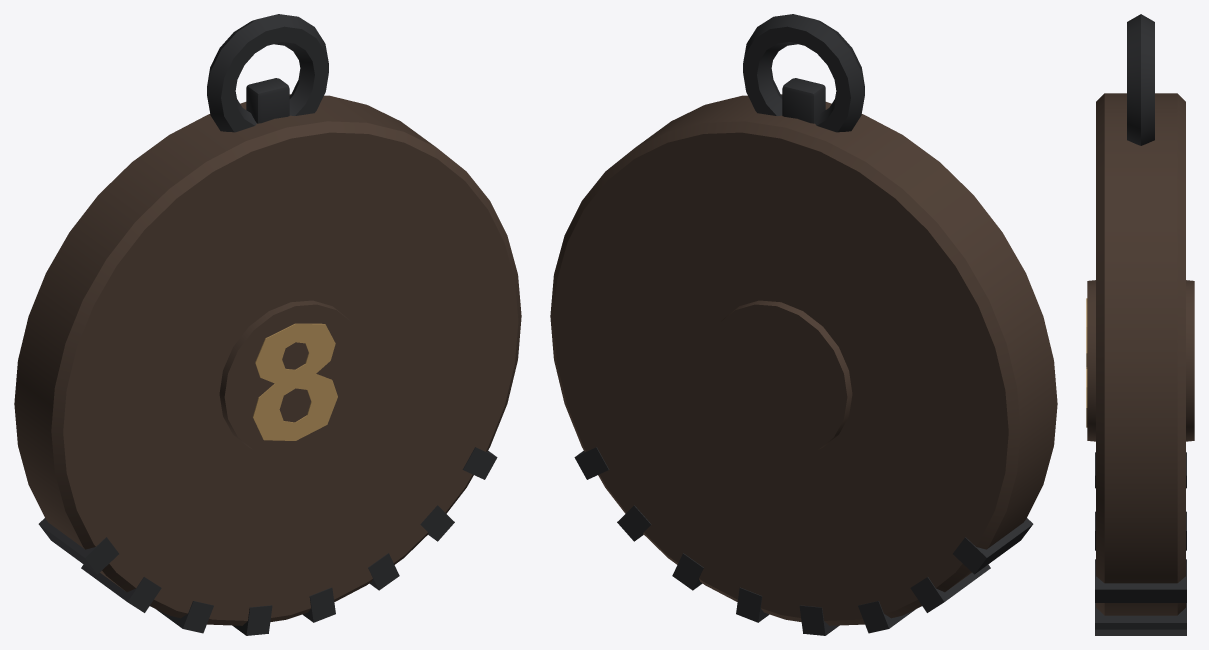
File: weight_8.glb
3 views of the same model, side by side, from view 1: azimuth 30°, elevation 25°; view 2: azimuth 150°, elevation 25°; view 3: azimuth 270°, elevation 25° (orthographic).
Parts seen in each view (by area): view 1: weight_8; view 2: weight_8; view 3: weight_8.
Part boxes in pixels (left/top/right/bottom): weight_8: left=14, top=14, right=521, bottom=635; weight_8: left=550, top=14, right=1057, bottom=635; weight_8: left=1086, top=14, right=1194, bottom=635.
Size of the model in its own units: 0.25 by 0.3021 by 0.0505.
